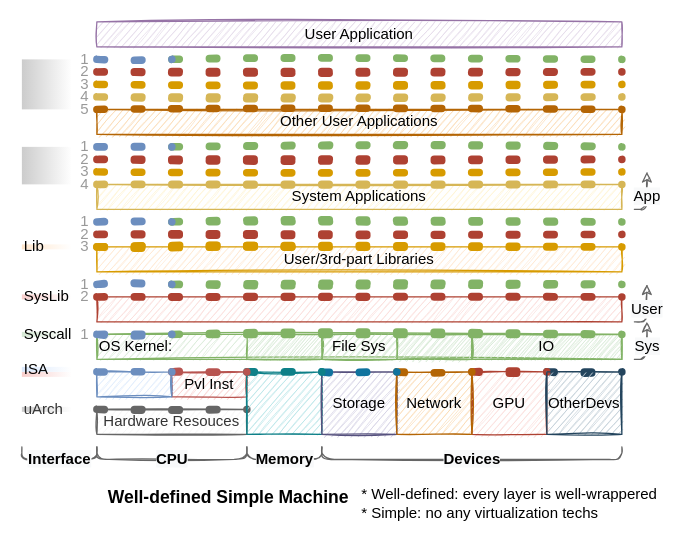
Image size: 694x544. Some labels were removed from this diagram. The centre of each missing label's shape, as x and y in pixels:
PhysMem: the point at 284,402
Protocols: the point at 434,346
SysEnv: the point at 46,165
System Libraries: the point at 359,309
Unpvl Inst: the point at 134,384
UserEnv: the point at 46,84
VirtMem: the point at 284,346
